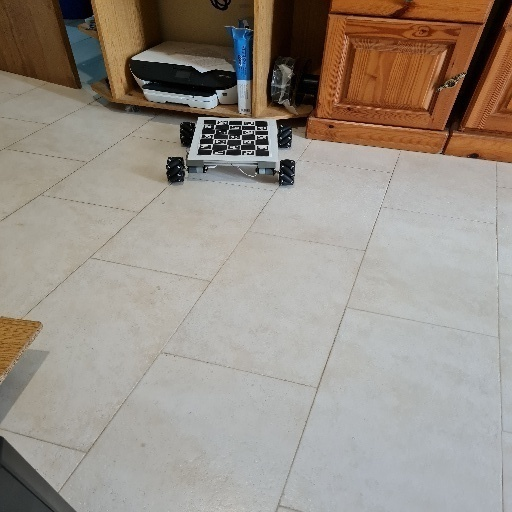Omniwheel: (165, 116, 297, 189)
